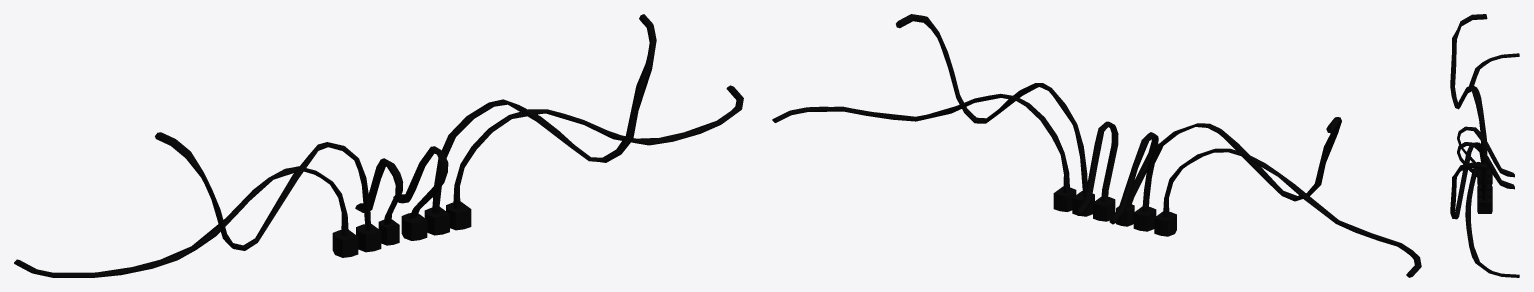
File: powercords_combo_lod2.fbx
3 renders of one model, left to right at view 1: azimuth 30°, elevation 25°; view 2: azimuth 150°, elevation 25°; view 3: azimuth 270°, elevation 25°, orthographic. The views are drawn at different scales.
Visible parts, largest first — view 1: cord5, cord51, cord6, Duplicate02, cord4, cord40, plug3, plug6, plug5, plug2, plug1, plug4; view 2: cord51, Duplicate02, cord5, cord6, cord4, cord40, plug6, plug5, plug3, plug1; view 3: cord51, cord5, Duplicate02, cord40, cord4, cord6, plug1, plug5, plug2, plug3.
Boxes of the visible parts, box(x1,y1,x2,y2) form: cord5: box(432, 14, 656, 213); cord51: box(155, 132, 370, 250); cord6: box(14, 166, 348, 277); Duplicate02: box(453, 85, 743, 209); cord4: box(393, 146, 448, 218); cord40: box(355, 158, 403, 227); plug3: box(401, 213, 427, 240); plug6: box(332, 230, 358, 257); plug5: box(356, 224, 381, 252); plug2: box(424, 207, 449, 235); plug1: box(446, 201, 471, 230); plug4: box(378, 219, 399, 245); cord51: box(1142, 117, 1341, 211); Duplicate02: box(772, 93, 1069, 192); cord5: box(896, 14, 1087, 197); cord6: box(1163, 148, 1421, 277); cord4: box(1076, 121, 1118, 215); cord40: box(1109, 132, 1158, 224); plug6: box(1154, 211, 1176, 236); plug5: box(1133, 206, 1156, 231); plug3: box(1093, 196, 1115, 221); plug1: box(1053, 186, 1076, 211); cord51: box(1450, 14, 1487, 172); cord5: box(1450, 142, 1487, 219); Duplicate02: box(1465, 162, 1519, 277); cord40: box(1457, 126, 1514, 177); cord4: box(1457, 142, 1514, 189); cord6: box(1468, 53, 1519, 154); plug1: box(1477, 197, 1492, 213); plug5: box(1477, 169, 1492, 184); plug2: box(1477, 191, 1492, 199); plug3: box(1477, 183, 1492, 193).
Bounding box in the file's own units: 5.17 × 1.13 × 0.6816.
